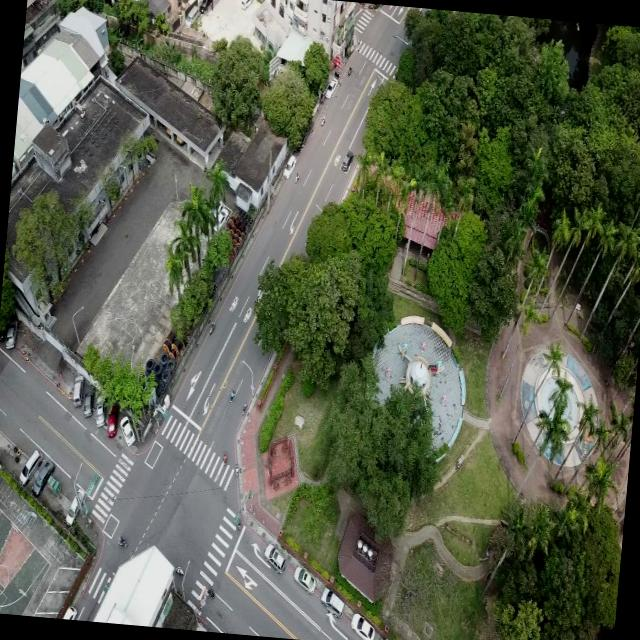bike: (113, 530, 130, 550), (172, 561, 187, 580), (202, 586, 218, 601), (220, 446, 230, 464), (208, 320, 216, 337), (229, 388, 236, 406), (319, 114, 326, 130), (293, 172, 300, 186)
car: (18, 448, 42, 493), (62, 487, 85, 530), (319, 587, 346, 617), (34, 460, 55, 498), (350, 611, 377, 640), (117, 413, 137, 452), (81, 382, 96, 421), (294, 566, 316, 592), (267, 544, 287, 572), (105, 402, 118, 443), (70, 372, 84, 407), (94, 392, 107, 428), (282, 154, 295, 180), (342, 147, 355, 172), (326, 76, 339, 100)
